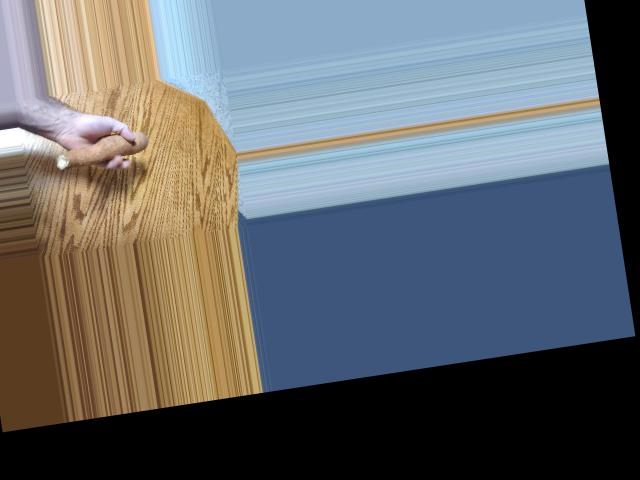sweet_potato: (60, 128, 144, 170)
